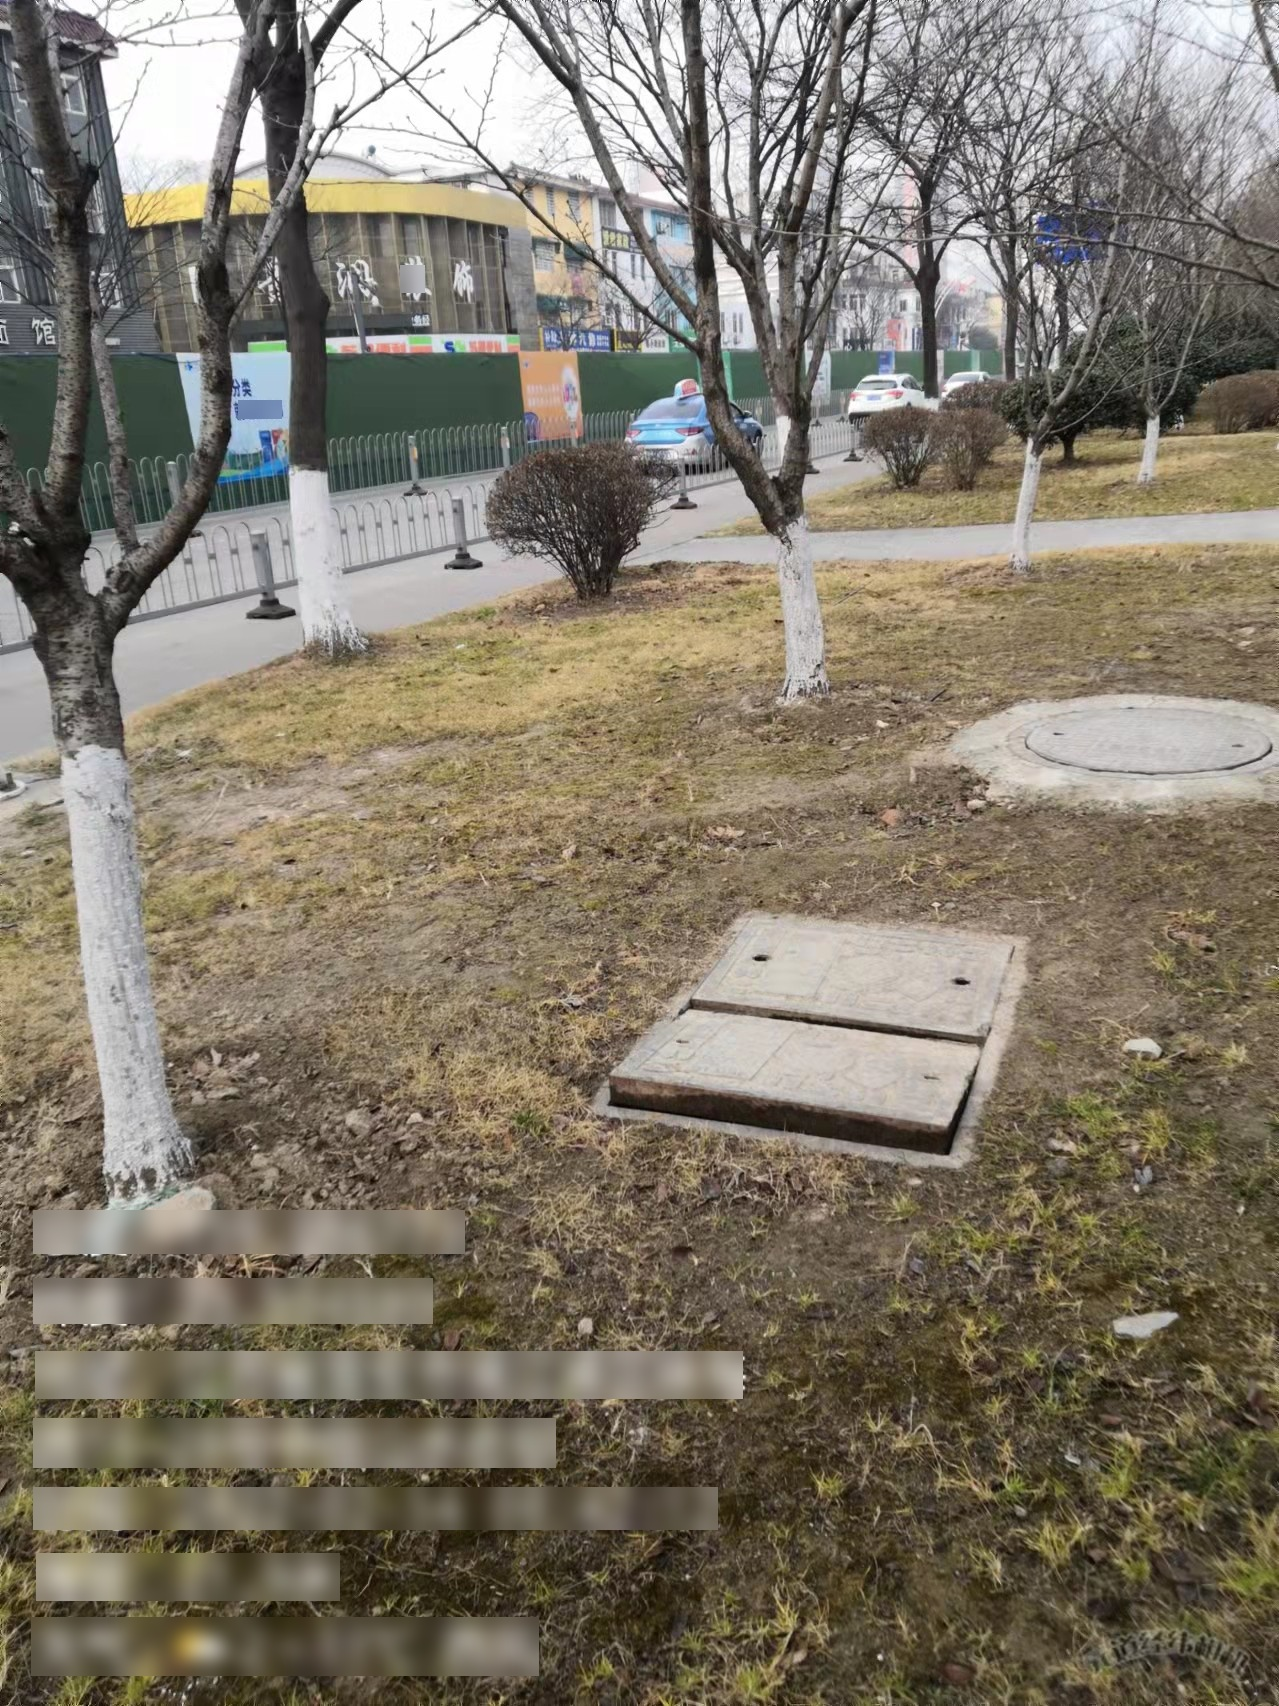well: (586, 916, 1028, 1163), (1020, 693, 1276, 779)
